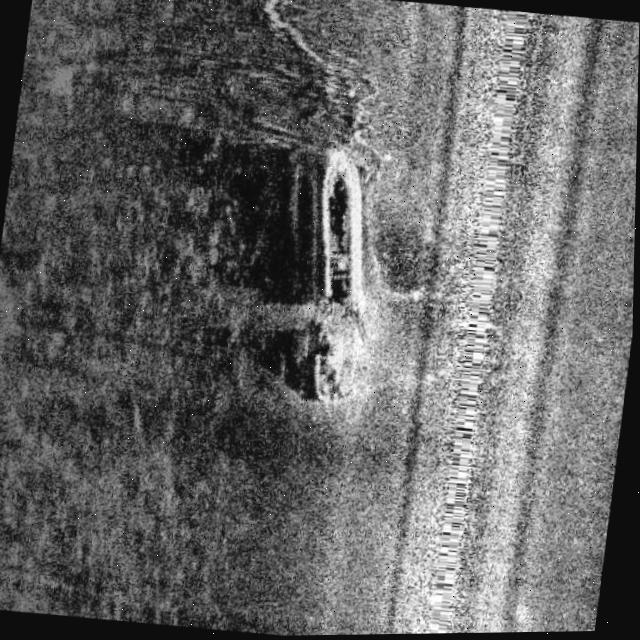shipwreck: (285, 145, 396, 415)
